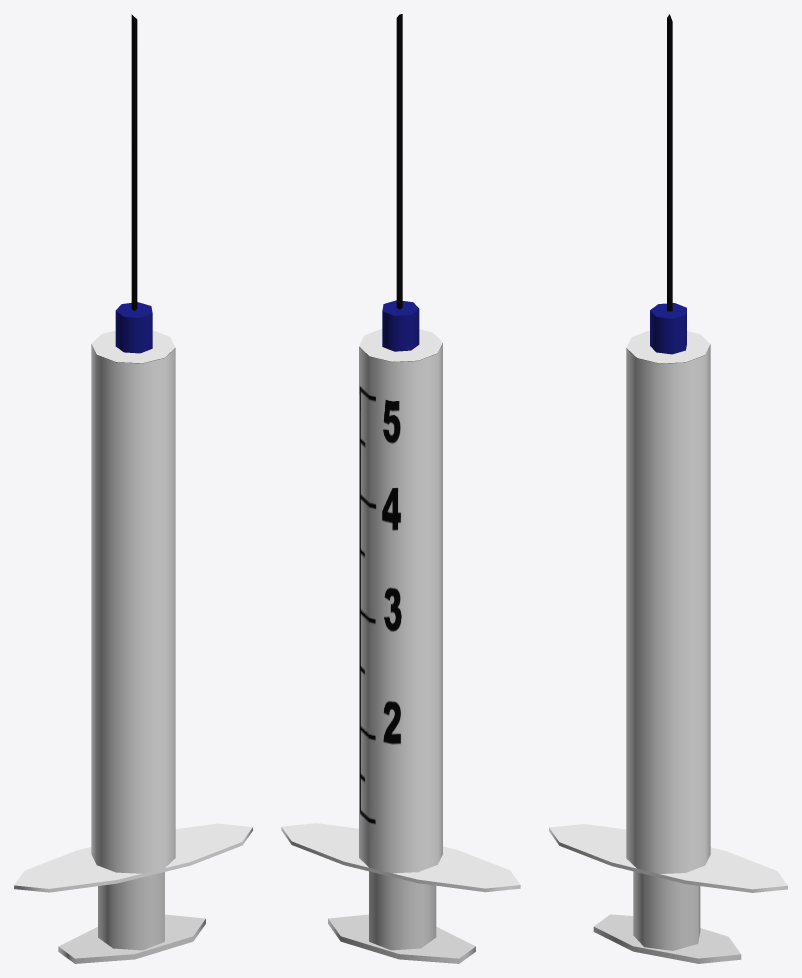
The model's file is Syringe.FBX.
The picture shows the model from 3 angles, left to right: view 1: azimuth 30°, elevation 25°; view 2: azimuth 150°, elevation 25°; view 3: azimuth 330°, elevation 25°; orthographic projection.
Visible parts, largest first — view 1: Cylinder001, Body, Cylinder004, Cylinder005, Cylinder002, Cylinder003; view 2: Cylinder001, Body, Cylinder004, Cylinder005, Cylinder002, Cylinder003; view 3: Cylinder001, Body, Cylinder004, Cylinder005, Cylinder002, Cylinder003.
Boxes of the visible parts, left/top/right/bottom form: Cylinder001: left=91, top=330, right=175, bottom=873; Body: left=14, top=823, right=252, bottom=892; Cylinder004: left=98, top=872, right=164, bottom=950; Cylinder005: left=58, top=914, right=205, bottom=963; Cylinder002: left=131, top=14, right=137, bottom=310; Cylinder003: left=115, top=302, right=152, bottom=353; Cylinder001: left=359, top=328, right=442, bottom=873; Body: left=281, top=823, right=520, bottom=892; Cylinder004: left=369, top=871, right=436, bottom=950; Cylinder005: left=328, top=914, right=475, bottom=963; Cylinder002: left=396, top=14, right=402, bottom=309; Cylinder003: left=382, top=300, right=419, bottom=351; Cylinder001: left=626, top=330, right=710, bottom=873; Body: left=549, top=824, right=787, bottom=892; Cylinder004: left=633, top=871, right=700, bottom=950; Cylinder005: left=593, top=914, right=741, bottom=963; Cylinder002: left=667, top=14, right=672, bottom=311; Cylinder003: left=650, top=303, right=686, bottom=354.
Bounding box in the file's own units: 31.1 × 115 × 9.07.
1 material, 1 textured.
